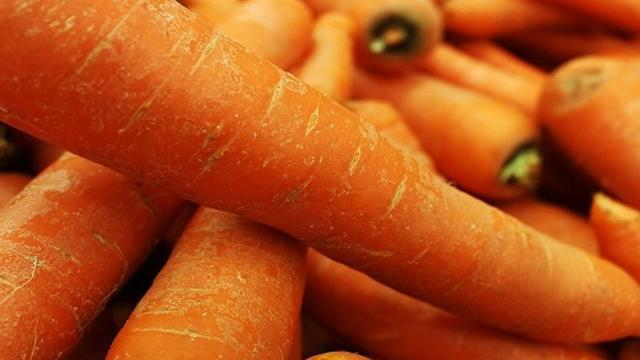carrot: (1, 0, 640, 360), (13, 149, 337, 351), (336, 8, 634, 213)
